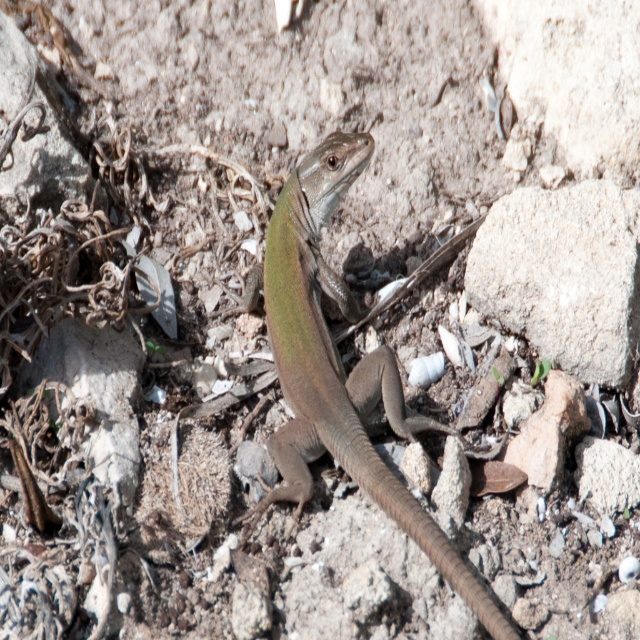Lizard: (244, 116, 479, 640)
